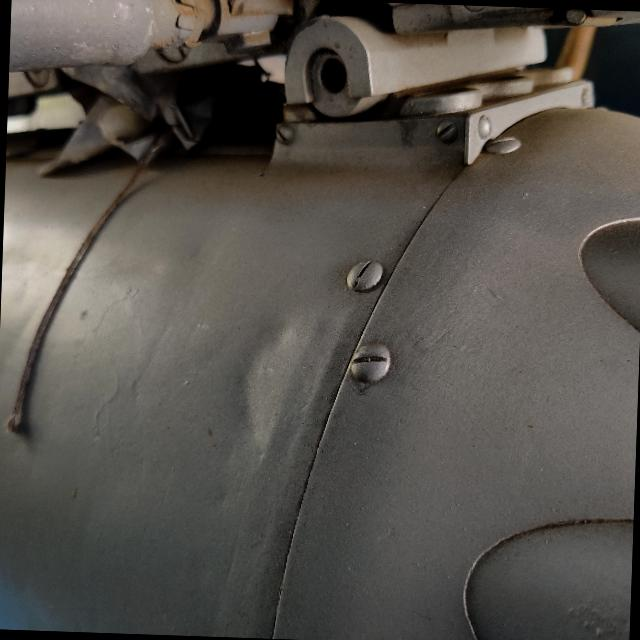dent: (206, 302, 334, 466)
